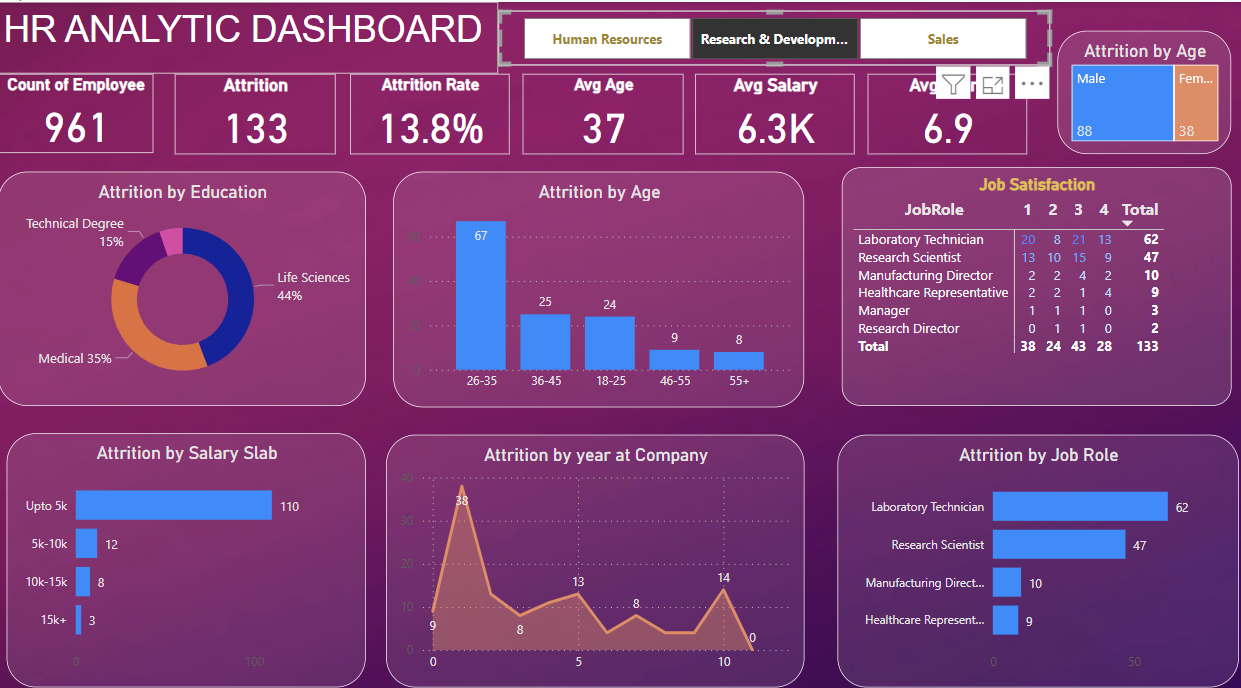

The page's visual inventory and layout, read from the dashboard file:
{"tool":"powerbi","page":{"name":"Page 1","canvas":[1280,720],"ordinal":0},"visuals":[{"type":"card","title":"Count of Employee","fields":{"Values":["CountNonNull(HR_Analytics.EmpID)"]},"box":[0,73.4,158.5,80.7],"z":0},{"type":"card","title":"Attrition","fields":{"Values":["Sum(HR_Analytics.AttritionCount)"]},"box":[180.5,73.4,164.4,82.2],"z":1000},{"type":"card","title":"Attrition Rate","fields":{"Values":["HR_Analytics.AttritionRate"]},"box":[359.6,73.4,162.9,82.2],"z":2000},{"type":"card","title":"Avg Age","fields":{"Values":["Avg(HR_Analytics.Age)"]},"box":[535.7,73.4,164.4,82.2],"z":3000},{"type":"card","title":"Avg Salary","fields":{"Values":["Avg(HR_Analytics.MonthlyIncome)"]},"box":[711.8,73.4,162.9,82.2],"z":4000},{"type":"card","title":"Avg Years","fields":{"Values":["Avg(HR_Analytics.YearsAtCompany)"]},"box":[888,73.4,162.9,82.2],"z":5000},{"type":"donutChart","title":"Attrition by Education","fields":{"Category":["HR_Analytics.EducationField"],"Y":["Sum(HR_Analytics.AttritionCount)"]},"box":[0,173.2,375.7,239.2],"z":6000},{"type":"columnChart","title":"Attrition by Age","fields":{"Category":["HR_Analytics.AgeGroup"],"Y":["Sum(HR_Analytics.AttritionCount)"]},"box":[403.6,173.2,419.8,240.7],"z":7000},{"type":"pivotTable","title":"Job Satisfaction ","fields":{"Rows":["HR_Analytics.JobRole"],"Columns":["HR_Analytics.JobSatisfaction"],"Values":["Sum(HR_Analytics.AttritionCount)"]},"box":[861.5,168.8,397.7,243.6],"z":8000},{"type":"barChart","title":"Attrition by Salary Slab","fields":{"Category":["HR_Analytics.SalarySlab"],"Y":["Sum(HR_Analytics.AttritionCount)"]},"box":[8.8,440.3,366.9,259.8],"z":9000},{"type":"barChart","title":"Attrition by Job Role","fields":{"Y":["Sum(HR_Analytics.AttritionCount)"],"Category":["HR_Analytics.JobRole"]},"box":[857.1,441.8,409.5,258.3],"z":10000},{"type":"areaChart","title":"Attrition by year at Company","fields":{"Category":["HR_Analytics.YearsAtCompany"],"Y":["Sum(HR_Analytics.AttritionCount)"]},"box":[396.3,441.8,427.1,258.3],"z":11000},{"type":"treemap","title":"Attrition by Age","fields":{"Group":["HR_Analytics.Gender"],"Values":["Sum(HR_Analytics.AttritionCount)"]},"box":[1081.7,29.4,177.6,126.2],"z":12000},{"type":"slicer","fields":{"Values":["HR_Analytics.Department"]},"box":[510.8,8.8,563.6,55.8],"z":13000},{"type":"textbox","box":[0,0,510.8,73.4],"z":14000}]}

Visuals, with their boxes in screenshot pixels (x1, y1, x2, y2), scaled from the page's 1280x720 canvas onto the 1241x688 screenshot:
"Count of Employee" card: rect(0, 70, 154, 147)
"Attrition" card: rect(175, 70, 334, 149)
"Attrition Rate" card: rect(349, 70, 507, 149)
"Avg Age" card: rect(519, 70, 679, 149)
"Avg Salary" card: rect(690, 70, 848, 149)
"Avg Years" card: rect(861, 70, 1019, 149)
"Attrition by Education" donutChart: rect(0, 166, 364, 394)
"Attrition by Age" columnChart: rect(391, 166, 798, 396)
"Job Satisfaction " pivotTable: rect(835, 161, 1221, 394)
"Attrition by Salary Slab" barChart: rect(9, 421, 364, 669)
"Attrition by Job Role" barChart: rect(831, 422, 1228, 669)
"Attrition by year at Company" areaChart: rect(384, 422, 798, 669)
"Attrition by Age" treemap: rect(1049, 28, 1221, 149)
slicer - HR_Analytics.Department: rect(495, 8, 1042, 62)
textbox: rect(0, 0, 495, 70)
